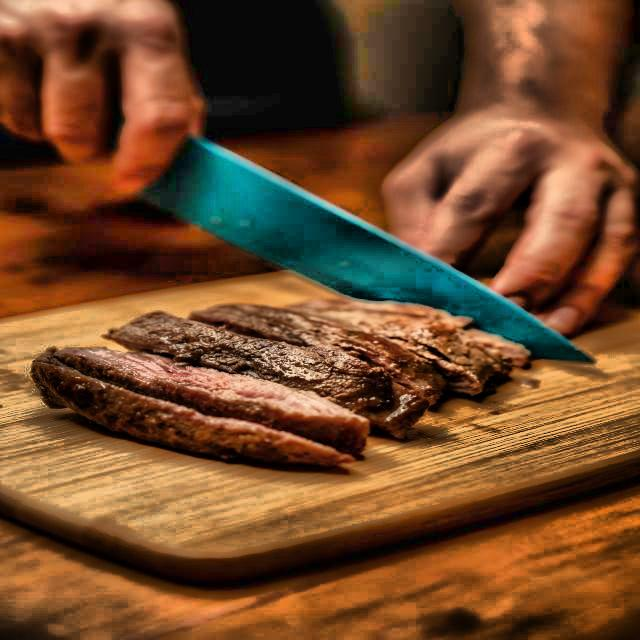knife: (138, 123, 604, 367)
